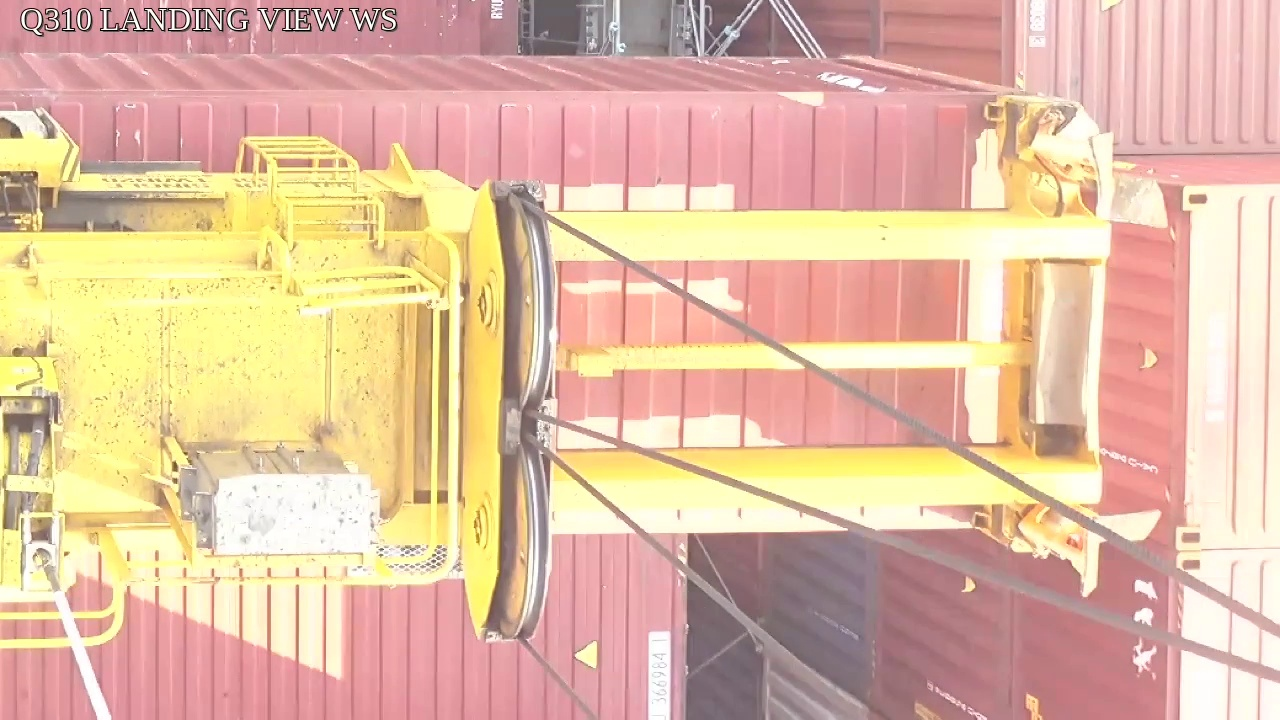right: (466, 179, 559, 641)
